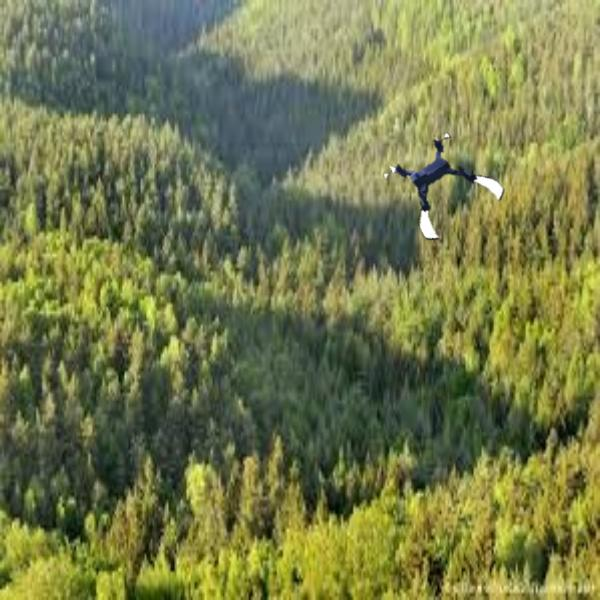drone: (390, 131, 497, 238)
